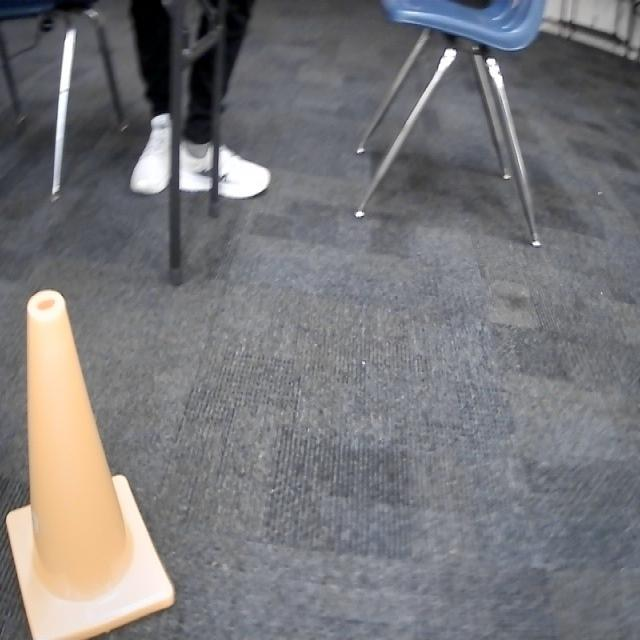cone: (6, 289, 174, 639)
